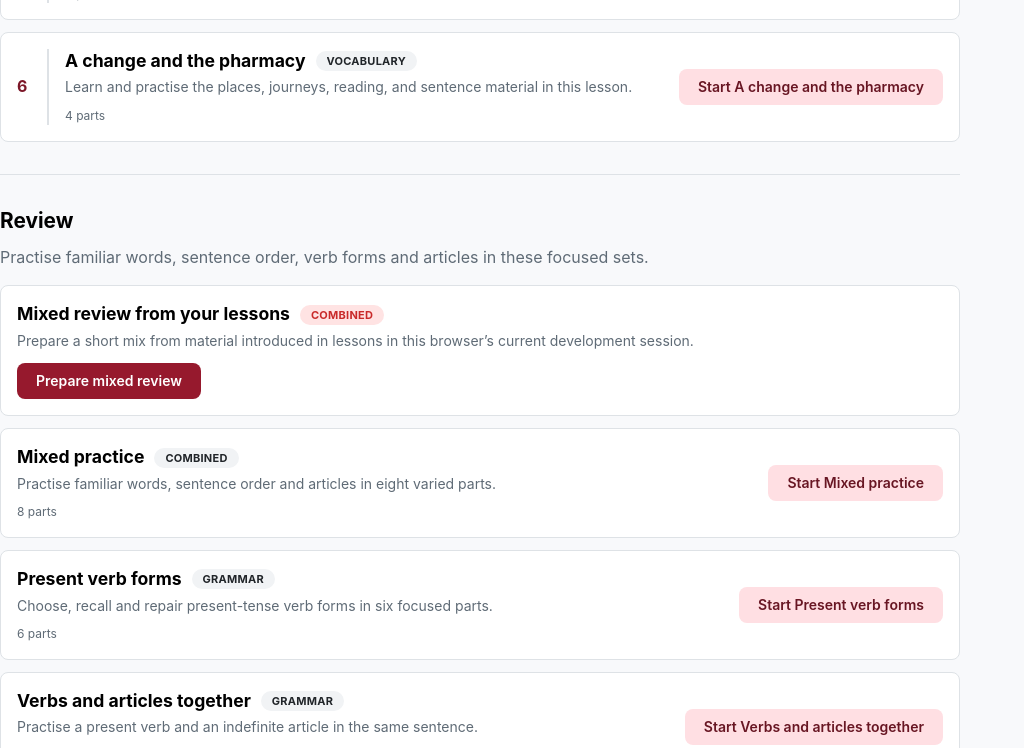
Test: refreshes empty and prepared review counts without creating a run
(page scrolled)
Click the button "Prepare mixed review" at {"x": 109, "y": 381}, box [17, 363, 201, 399]
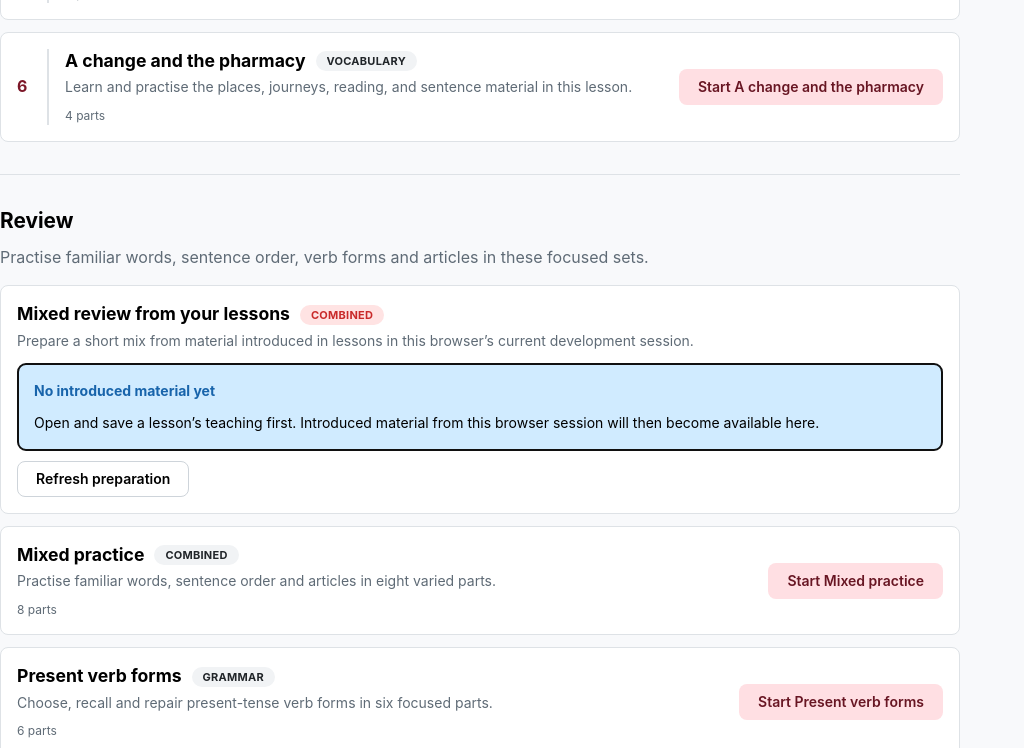
Check: the text "No introduced material yet" is shown, box [34, 380, 215, 402]
Click the button "Refresh preparation" at {"x": 103, "y": 479}, box [17, 461, 189, 497]
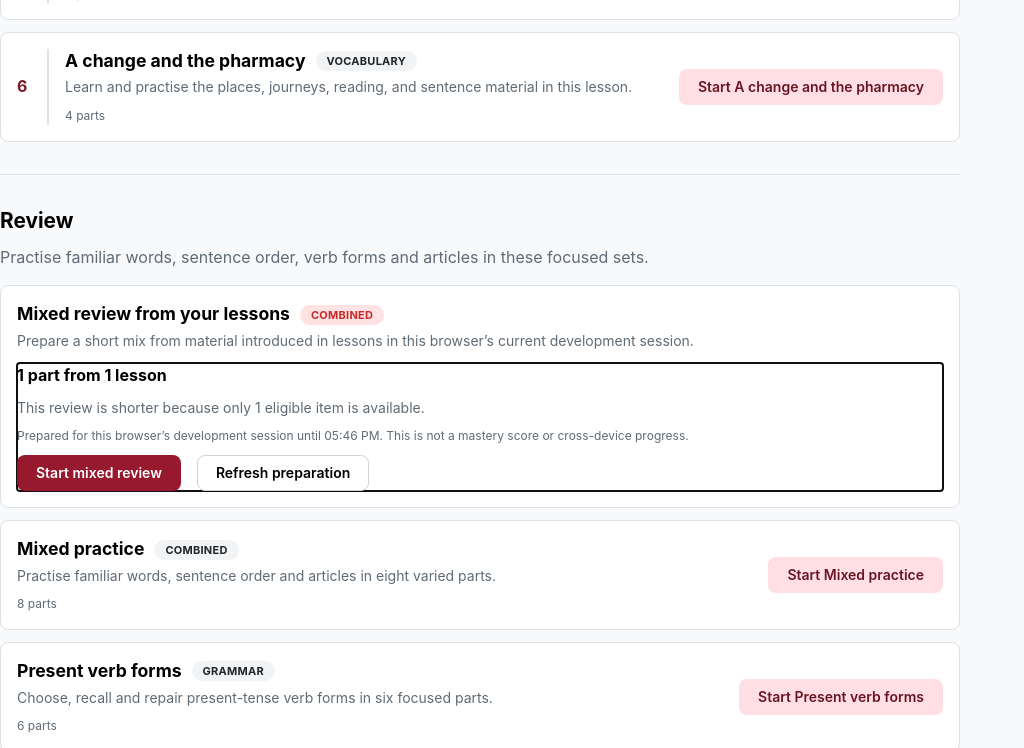
Check: the text "1 part from 1 lesson" is shown, box [17, 365, 167, 385]
Check: the text "only 1 eligible item is available" is shown, box [17, 399, 425, 416]
Click the button "Refresh preparation" at {"x": 283, "y": 473}, box [197, 455, 369, 491]
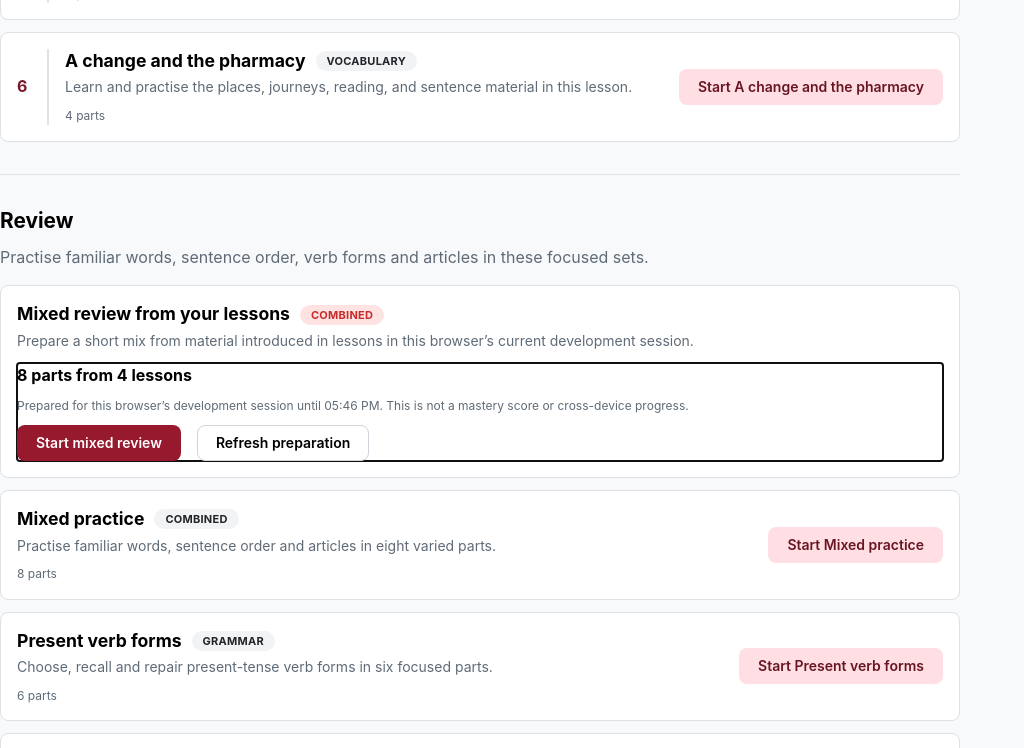
Check: the text "8 parts from 4 lessons" is shown, box [17, 365, 192, 385]
